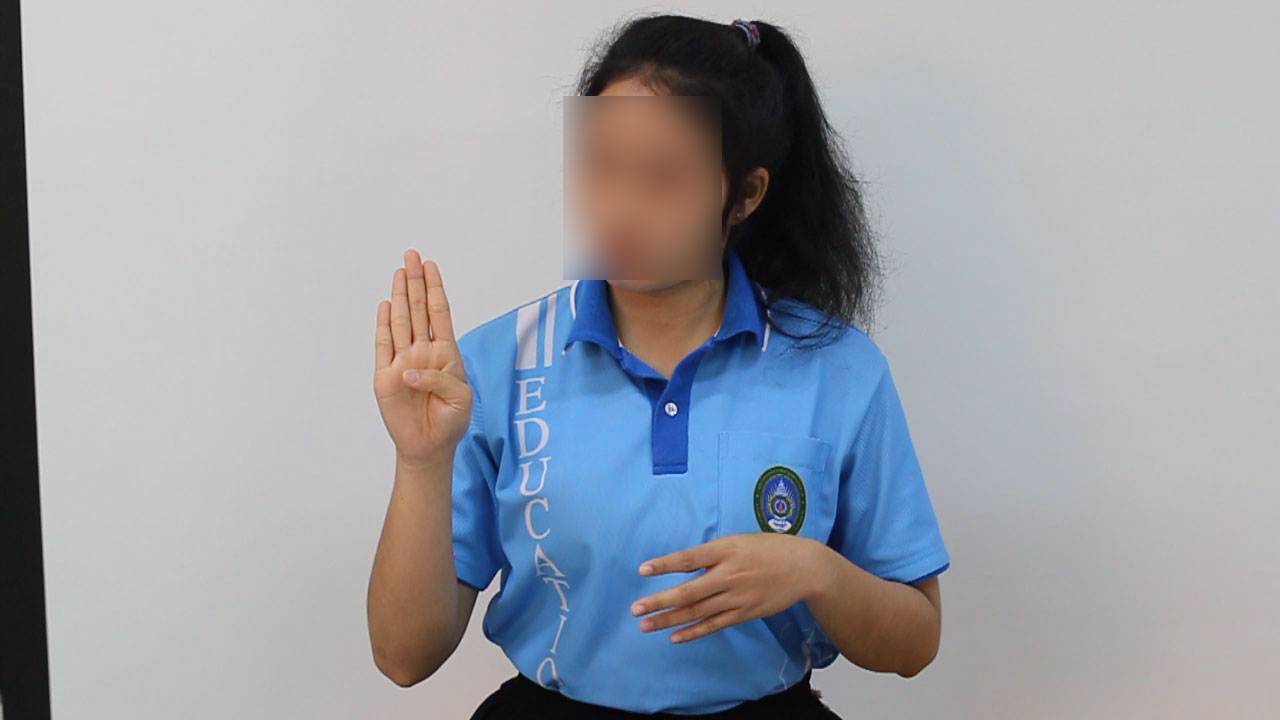bor: (346, 235, 494, 493)
